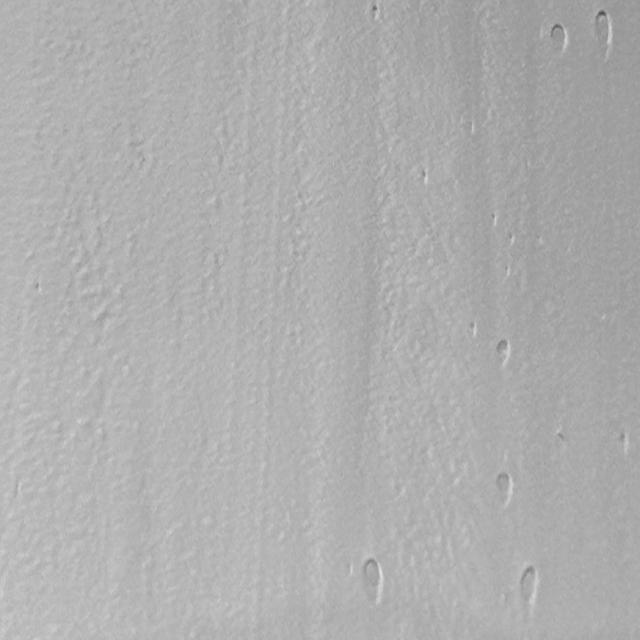pin holes: (356, 553, 387, 606), (517, 564, 545, 609), (592, 10, 616, 52), (490, 470, 514, 502), (548, 22, 570, 55), (491, 337, 512, 368), (615, 428, 633, 456), (417, 166, 434, 188), (369, 4, 383, 24), (556, 428, 568, 451), (467, 320, 480, 340), (488, 210, 500, 230), (508, 230, 515, 242)
